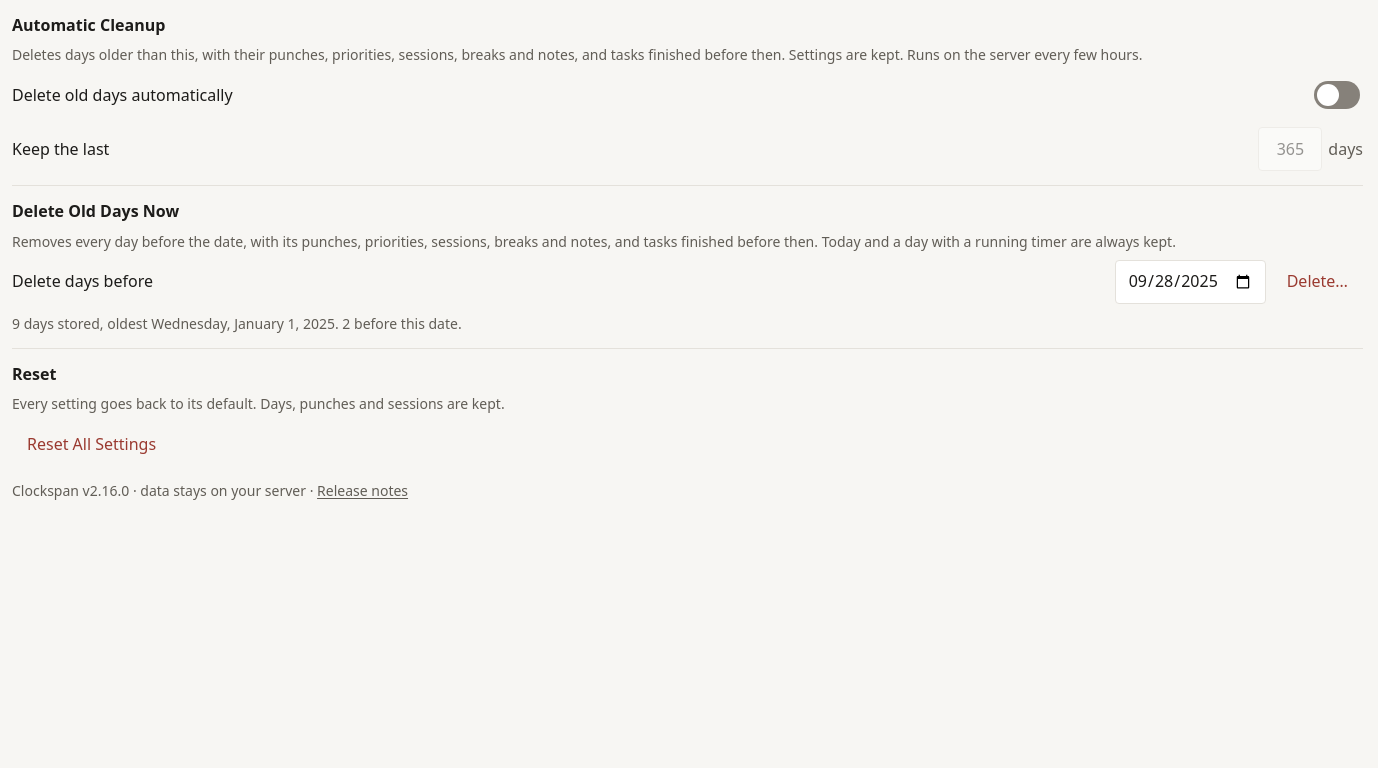
Test: DataTab › shows the new date's count when the date changes during a delete
Click the button "Delete…": (1317, 282) [1272, 260, 1363, 304]
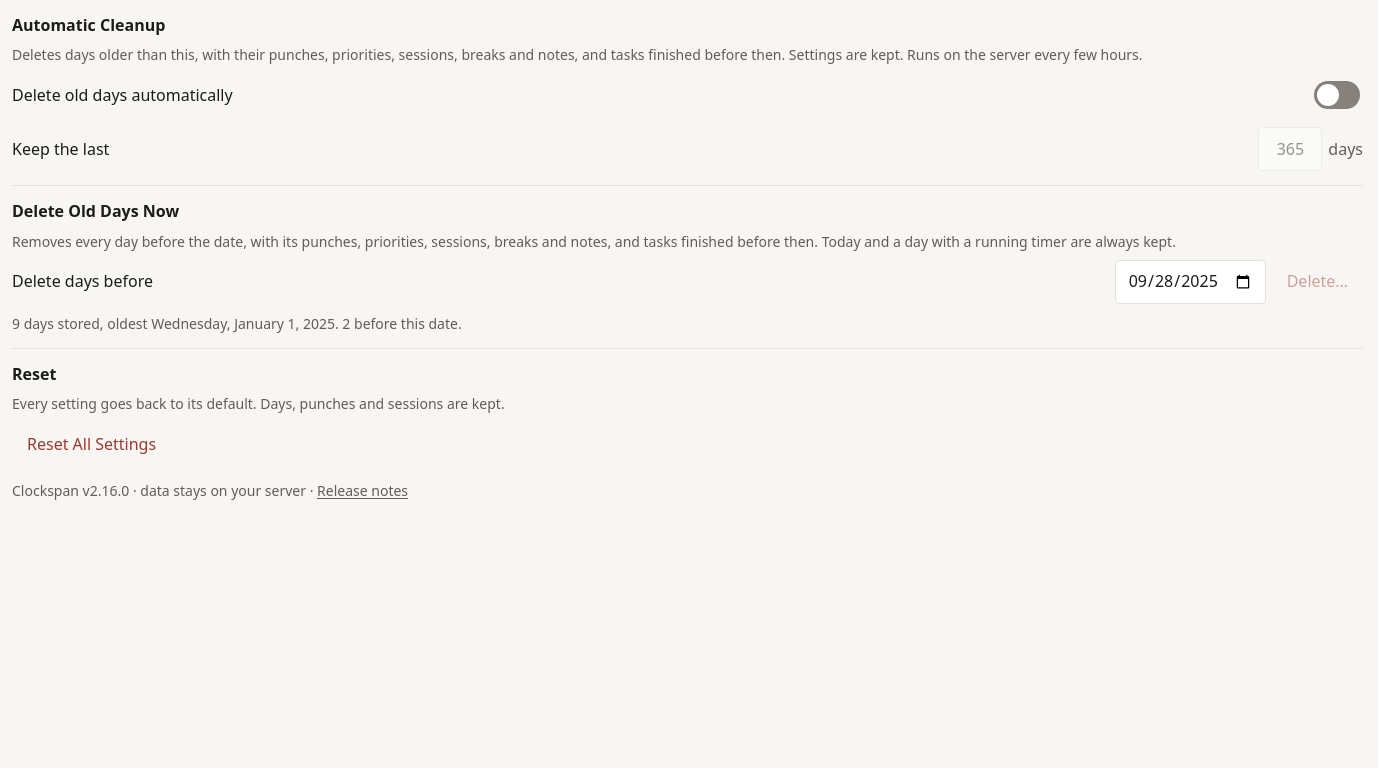
In the date field named "Delete days before": (1190, 282) [1115, 260, 1266, 304], type "2026-01-01"
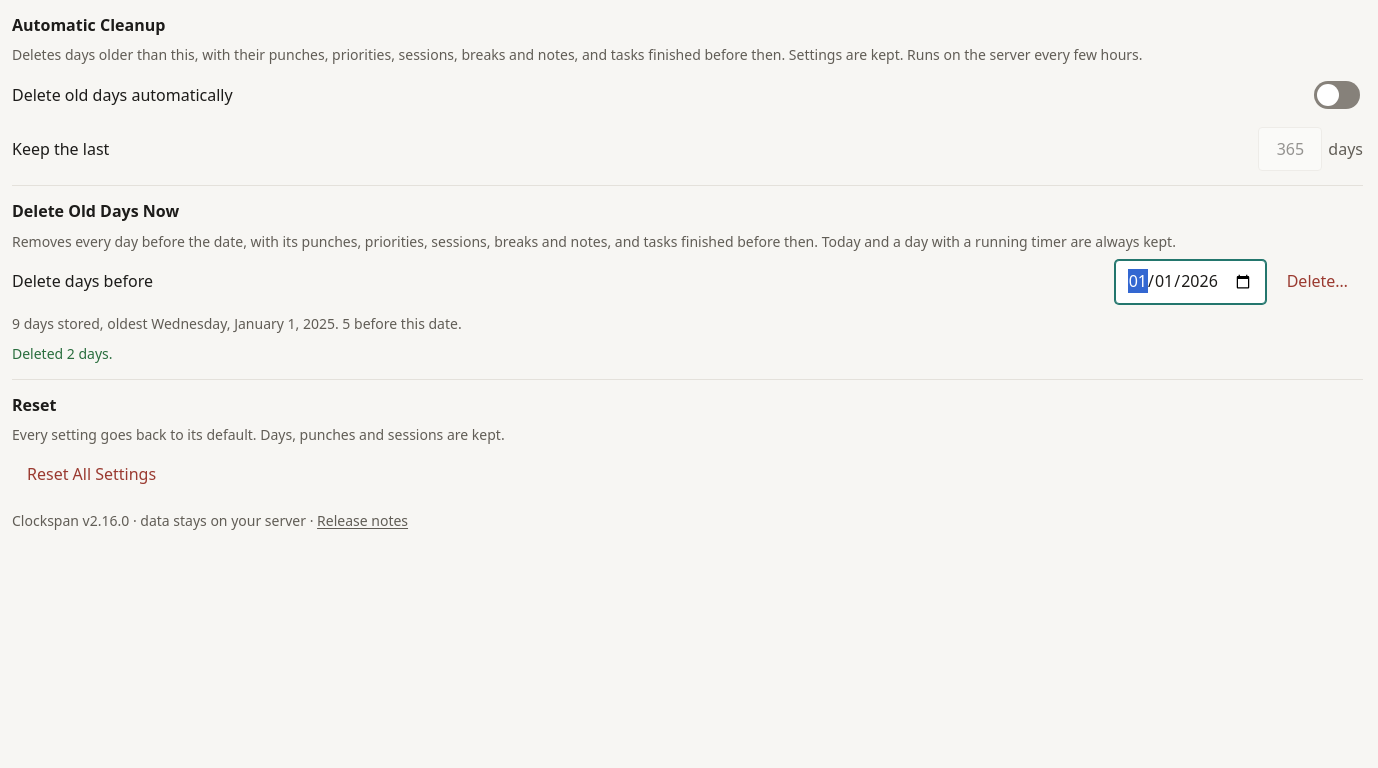
expect the text "5 before this date" is shown: met, box [12, 314, 462, 333]
expect the button "Delete…" is enabled: met, box [1272, 260, 1363, 304]
